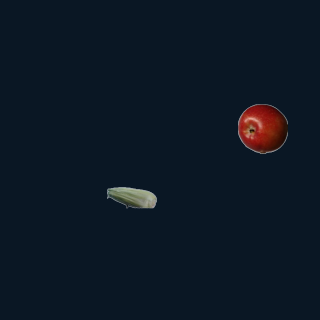Apple Braeburn: (237, 103, 287, 153)
Corn Husk: (106, 172, 156, 222)
